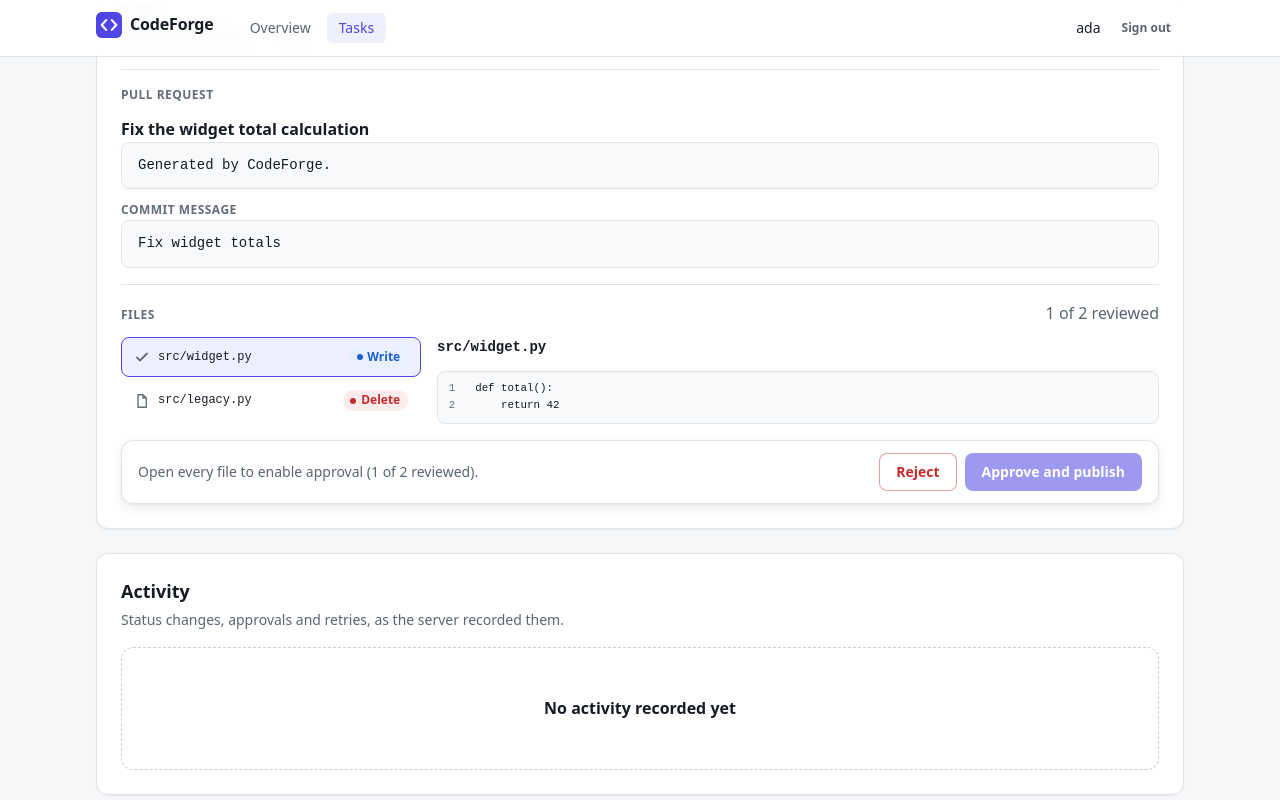
Test: publication review › enables approval only after every file has been opened
The image size is (1280, 800).
(page scrolled)
Expected: the button "Approve and publish" is disabled, [964,452,1142,490]
Expected: the text "Open every file to enable approval (1 of 2 reviewed)." is shown, [138,462,478,481]
Click the button "src/legacy.py Delete": (205, 400) [121,381,421,420]
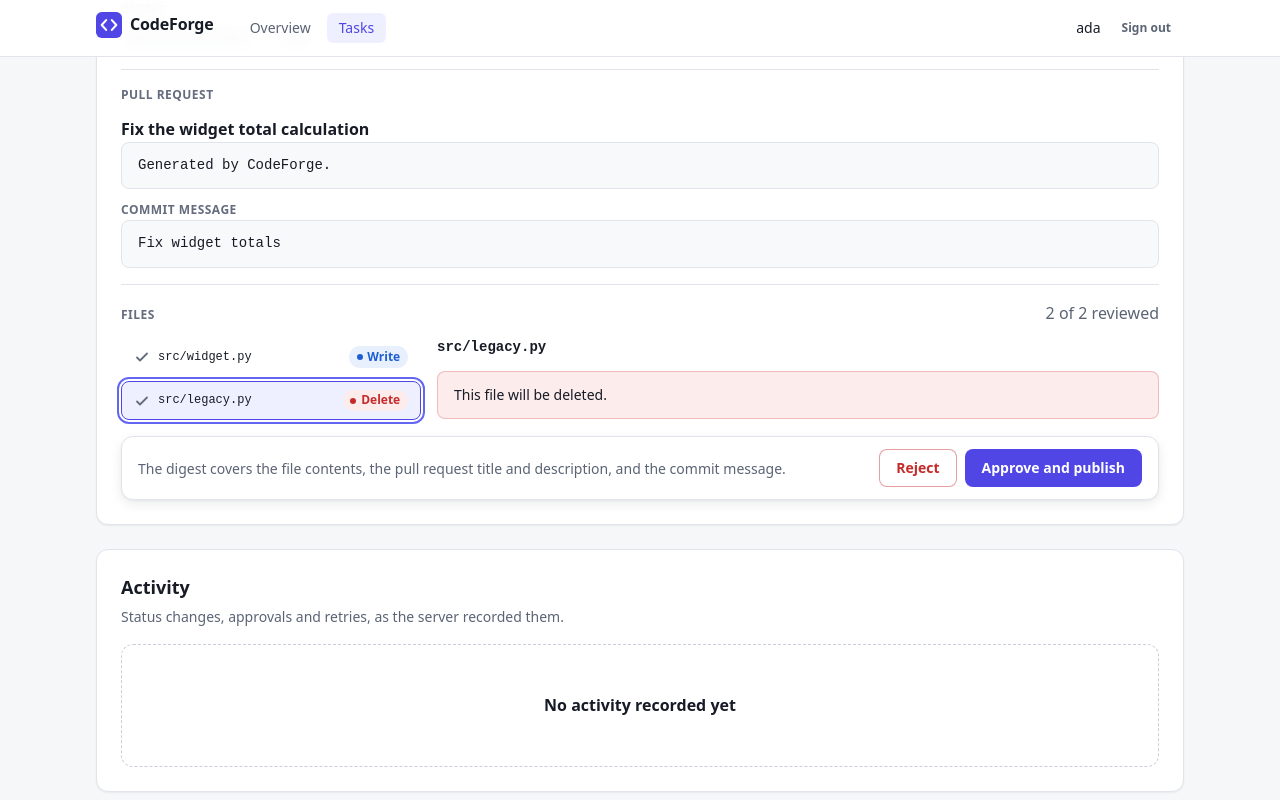
Expected: the text "This file will be deleted." is shown, [437,371,1159,419]
Expected: the button "Approve and publish" is enabled, [964,450,1142,488]
